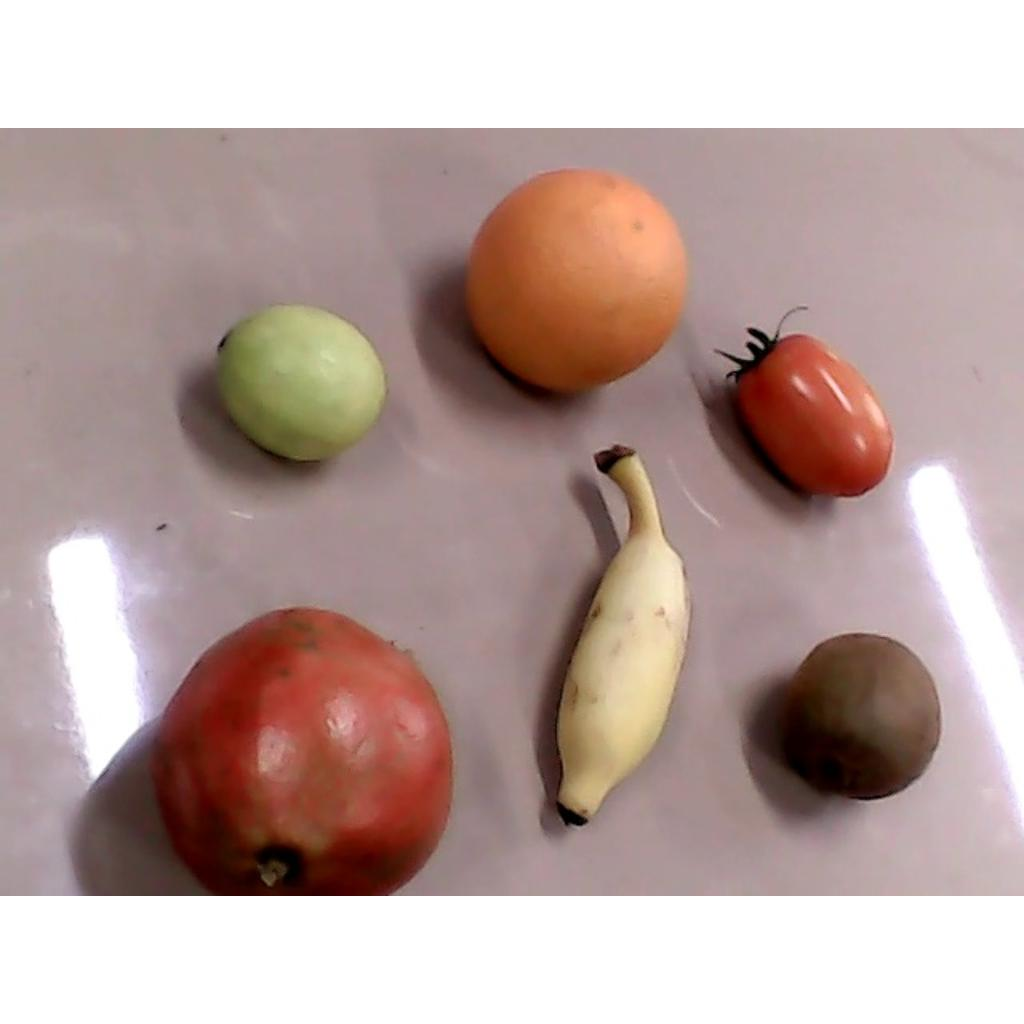kiwi: (784, 631, 944, 801)
lemon: (217, 302, 388, 461)
orange: (462, 167, 692, 394)
pomegranate: (148, 607, 453, 893)
tomato: (715, 304, 896, 500)
